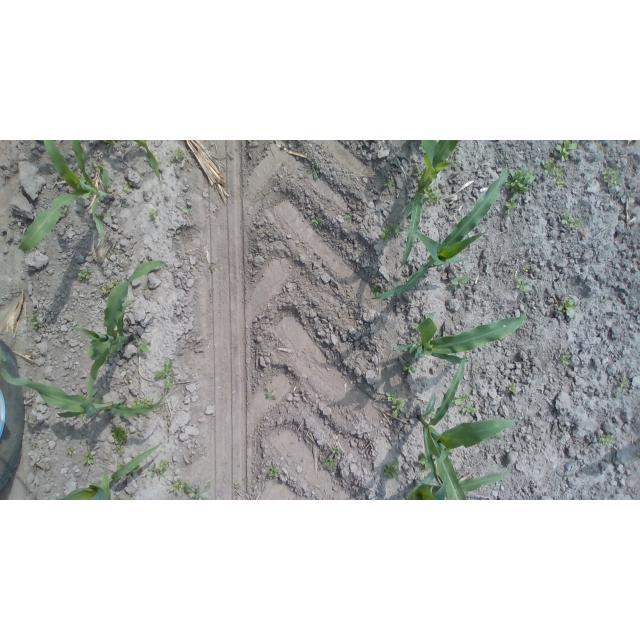Maize: (370, 158, 509, 300), (419, 351, 518, 500), (72, 260, 167, 396), (0, 347, 168, 418), (18, 140, 115, 252), (398, 141, 459, 272), (393, 310, 527, 363), (57, 442, 162, 500), (408, 463, 512, 500), (132, 141, 160, 180)
Weeds: (505, 166, 538, 195), (155, 357, 176, 389), (386, 391, 407, 420), (602, 165, 625, 191), (557, 140, 579, 162), (184, 482, 210, 500), (148, 459, 169, 479), (382, 457, 400, 480), (102, 278, 123, 297), (557, 296, 576, 317), (424, 186, 444, 205), (298, 163, 320, 180), (112, 424, 129, 446), (450, 273, 471, 290), (135, 335, 152, 355), (561, 214, 583, 229), (30, 308, 45, 330), (553, 165, 566, 187), (542, 156, 556, 176), (171, 478, 185, 498), (505, 195, 519, 214), (78, 267, 95, 281), (320, 456, 338, 469), (515, 280, 533, 293), (401, 363, 420, 374), (370, 285, 389, 296), (380, 226, 392, 243), (174, 146, 186, 163), (454, 393, 468, 407), (83, 449, 94, 466), (463, 403, 478, 415), (264, 388, 277, 401), (560, 352, 572, 366), (391, 222, 402, 237), (419, 451, 428, 469), (148, 208, 161, 220), (504, 381, 517, 393), (600, 433, 613, 445), (268, 464, 279, 478), (142, 395, 154, 407), (121, 183, 135, 193), (331, 445, 343, 456), (311, 216, 322, 227), (209, 263, 220, 274), (619, 377, 630, 388), (413, 165, 423, 177), (341, 213, 353, 223), (113, 446, 123, 458), (103, 141, 116, 148), (418, 143, 426, 154), (598, 145, 608, 153), (132, 398, 142, 406), (67, 446, 75, 456), (385, 180, 394, 188), (234, 482, 243, 490), (523, 265, 531, 273), (143, 282, 150, 291), (428, 413, 437, 420), (511, 269, 518, 277), (116, 463, 124, 470), (182, 208, 191, 214), (128, 493, 135, 500), (615, 391, 622, 398), (548, 276, 553, 283), (113, 249, 118, 255), (495, 435, 501, 438), (627, 140, 633, 142)
